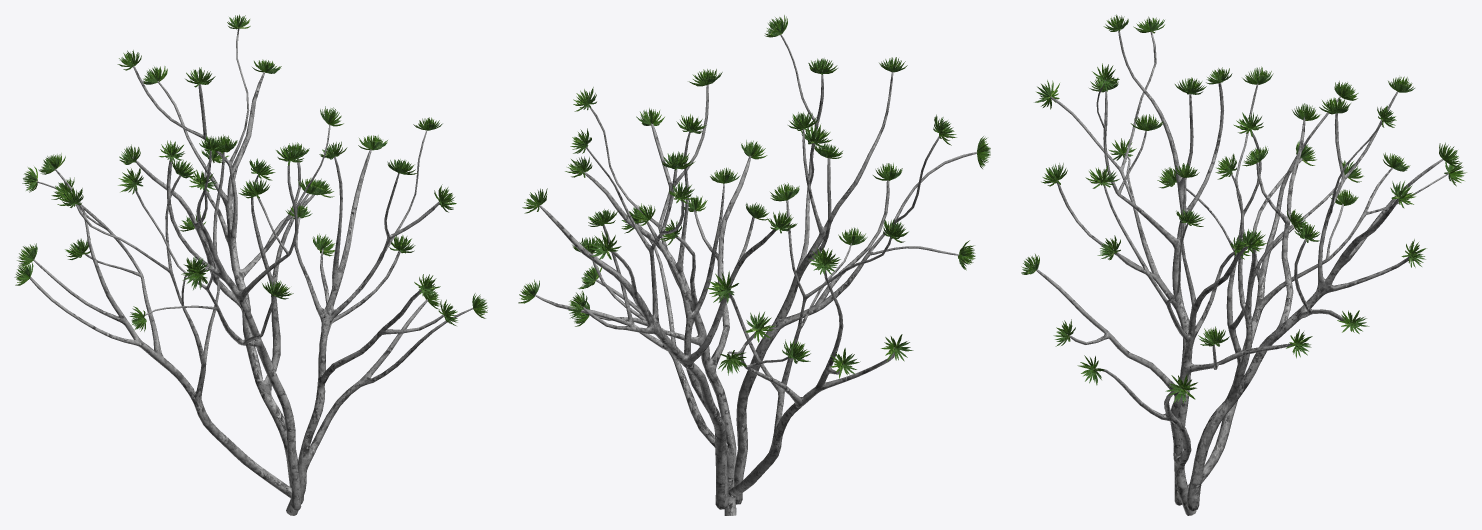
The picture shows the model from 3 angles, left to right: view 1: azimuth 30°, elevation 25°; view 2: azimuth 150°, elevation 25°; view 3: azimuth 270°, elevation 25°; orthographic projection. The views are drawn at different scales.
Parts seen in each view (by area): view 1: TrunkandBranches, Flowers; view 2: TrunkandBranches, Flowers; view 3: TrunkandBranches, Flowers.
Part boxes in pixels (x1=…): TrunkandBranches: x1=29, y1=28, x2=472, y2=515; Flowers: x1=14, y1=14, x2=487, y2=331; TrunkandBranches: x1=535, y1=34, x2=977, y2=515; Flowers: x1=518, y1=15, x2=990, y2=378; TrunkandBranches: x1=1036, y1=30, x2=1448, y2=515; Flowers: x1=1021, y1=14, x2=1466, y2=403.
Size of the model in its own units: 58.21 by 65.88 by 59.67.
